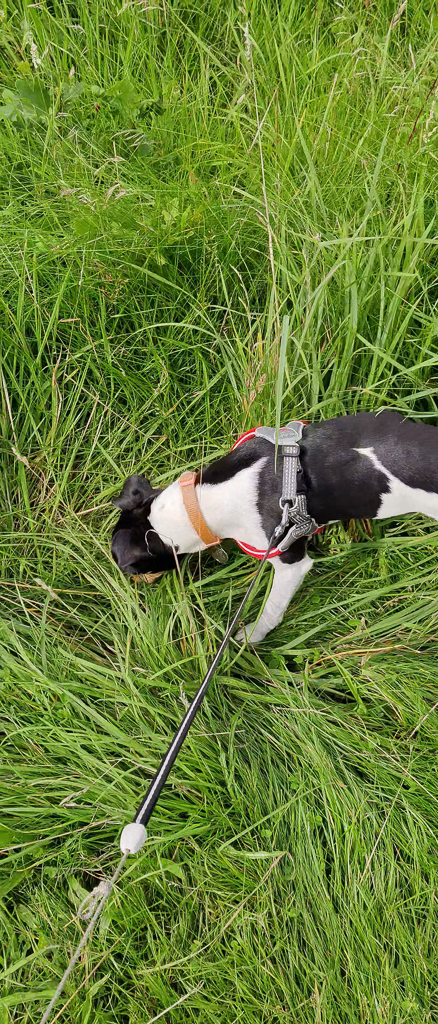Dog: (96, 393, 438, 657)
